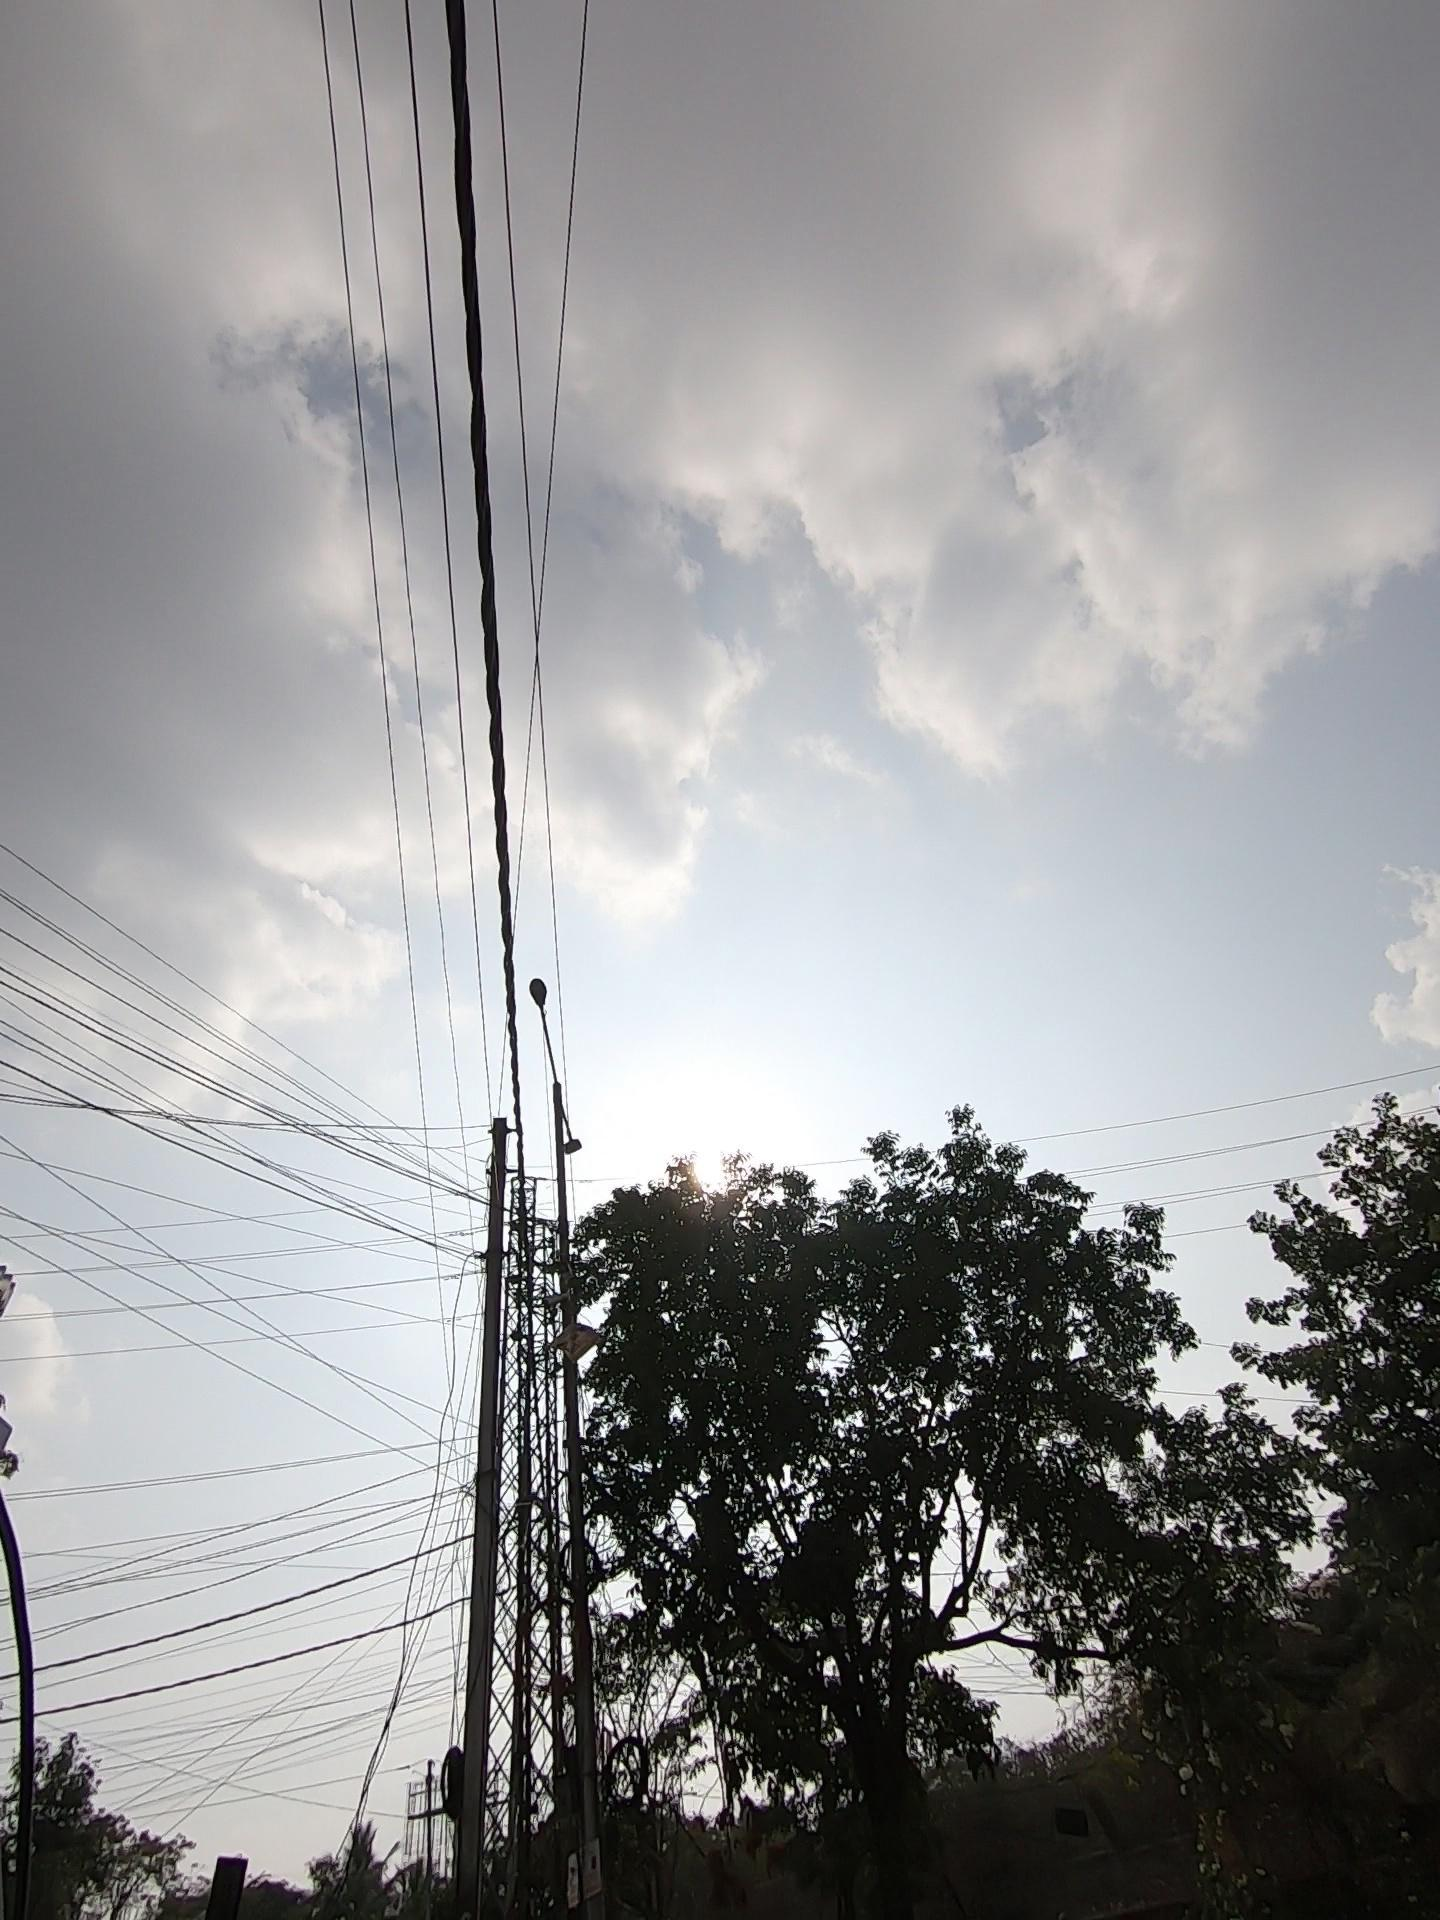off: (460, 901, 655, 1284)
